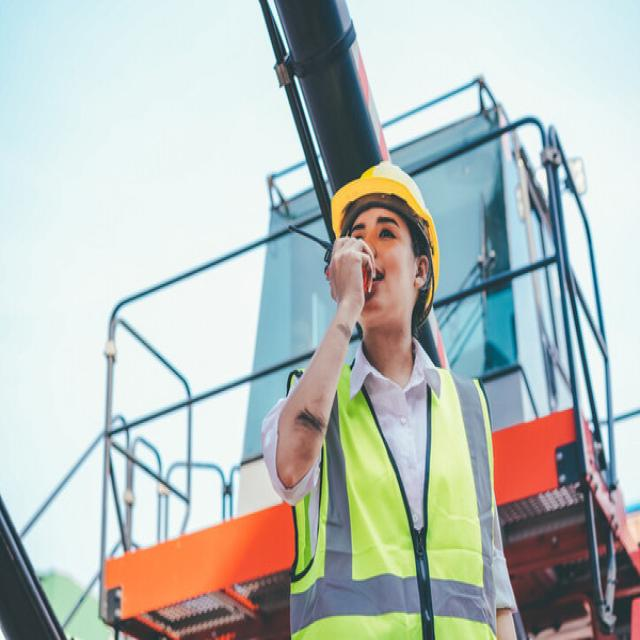helmet: (328, 155, 441, 316)
vest: (280, 362, 502, 640)
